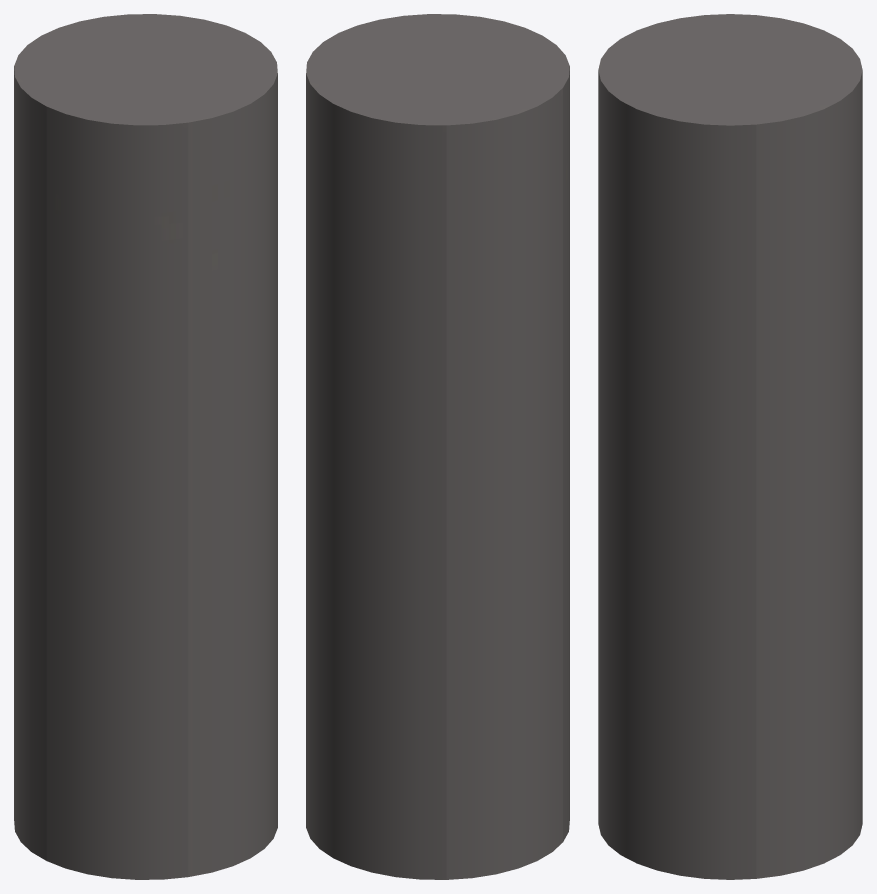
Rendered from backrest__pop_pin_standoff.glb.
3 views of the same model, side by side, from view 1: azimuth 30°, elevation 25°; view 2: azimuth 150°, elevation 25°; view 3: azimuth 270°, elevation 25° (orthographic).
Parts seen in each view (by area): view 1: world; view 2: world; view 3: world.
Part boxes in pixels (x1,y1,x2,y2): world: (14,14,277,879); world: (306,14,569,879); world: (598,14,862,879).
Bounding box in the file's own units: 0.02 × 0.063 × 0.02.
Materials: 1 (1 with a texture image).
